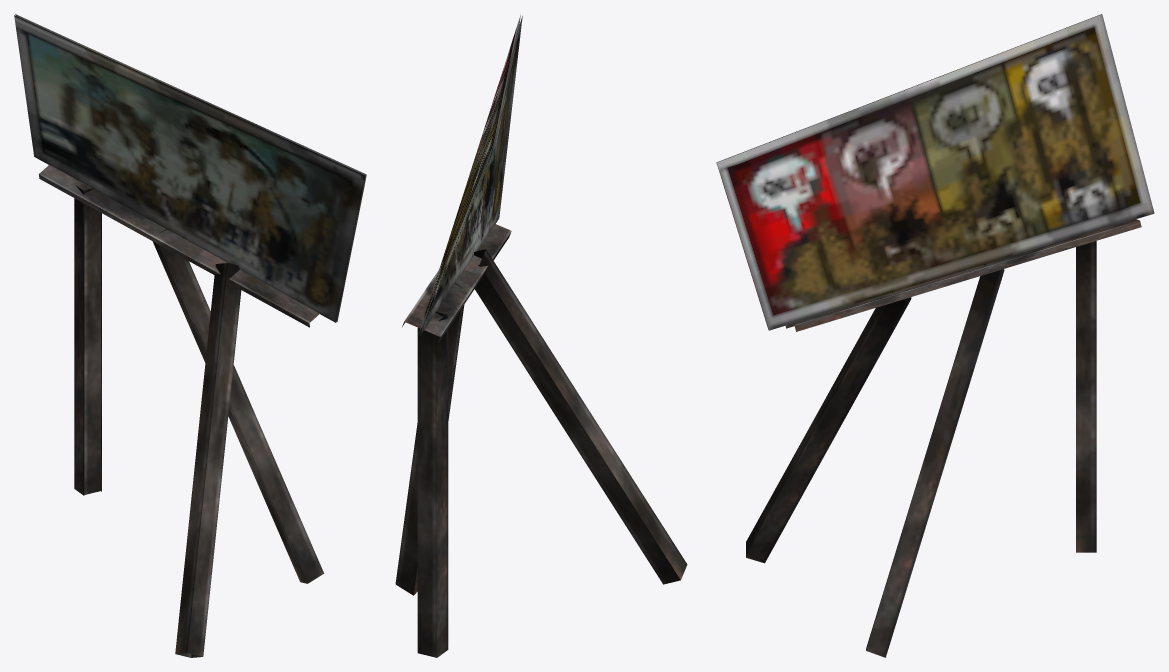
Rendered from Environment - Prop - Billboard 01 - Damaged - PMBillbrd03_D.glb.
The picture shows the model from 3 angles, left to right: view 1: azimuth 30°, elevation 25°; view 2: azimuth 150°, elevation 25°; view 3: azimuth 270°, elevation 25°; orthographic projection. The views are drawn at different scales.
Visible parts, largest first — view 1: PMBILLBRD03_D; view 2: PMBILLBRD03_D; view 3: PMBILLBRD03_D.
Part boxes in pixels (x1=…): PMBILLBRD03_D: x1=14, y1=14, x2=366, y2=657; PMBILLBRD03_D: x1=395, y1=15, x2=687, y2=657; PMBILLBRD03_D: x1=716, y1=14, x2=1154, y2=657.
Bounding box in the file's own units: 20.43 × 52.19 × 37.58.
Materials: 1 (1 with a texture image).
